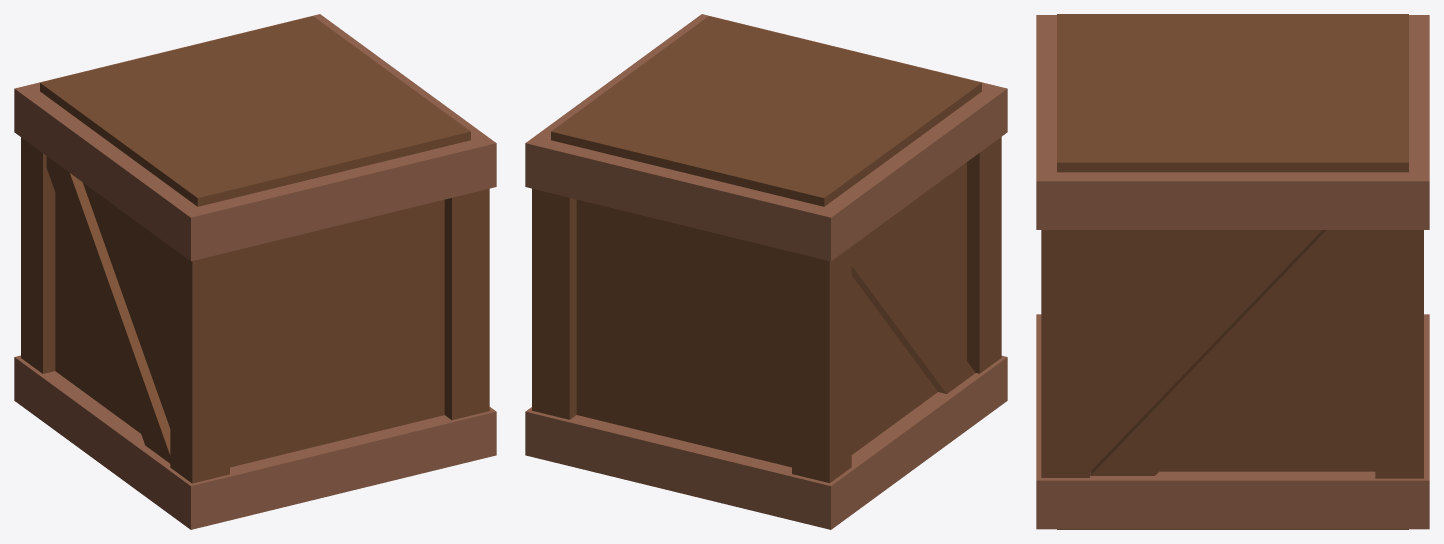
File: woodbox1.fbx
The picture shows the model from 3 angles, left to right: view 1: azimuth 30°, elevation 25°; view 2: azimuth 150°, elevation 25°; view 3: azimuth 270°, elevation 25°; orthographic projection. The views are drawn at different scales.
Visible parts, largest first — view 1: woodbox1; view 2: woodbox1; view 3: woodbox1.
Part boxes in pixels (box(x1,y1,x2,y2)): woodbox1: box(14, 14, 496, 529); woodbox1: box(525, 14, 1007, 529); woodbox1: box(1036, 14, 1429, 529).
Bounding box in the file's own units: 200 × 206 × 200.
